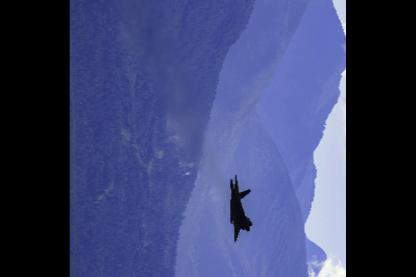F18: (230, 172, 252, 241)
